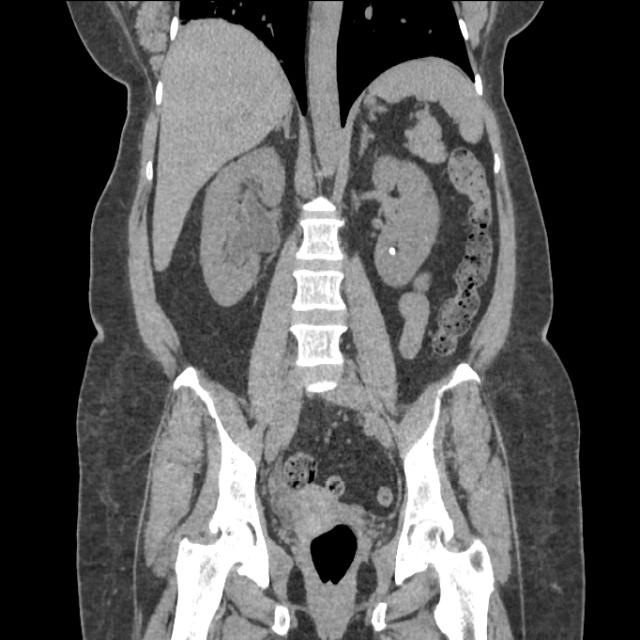kidney: (197, 140, 288, 310), (367, 150, 442, 294)
stone: (388, 243, 398, 259)
